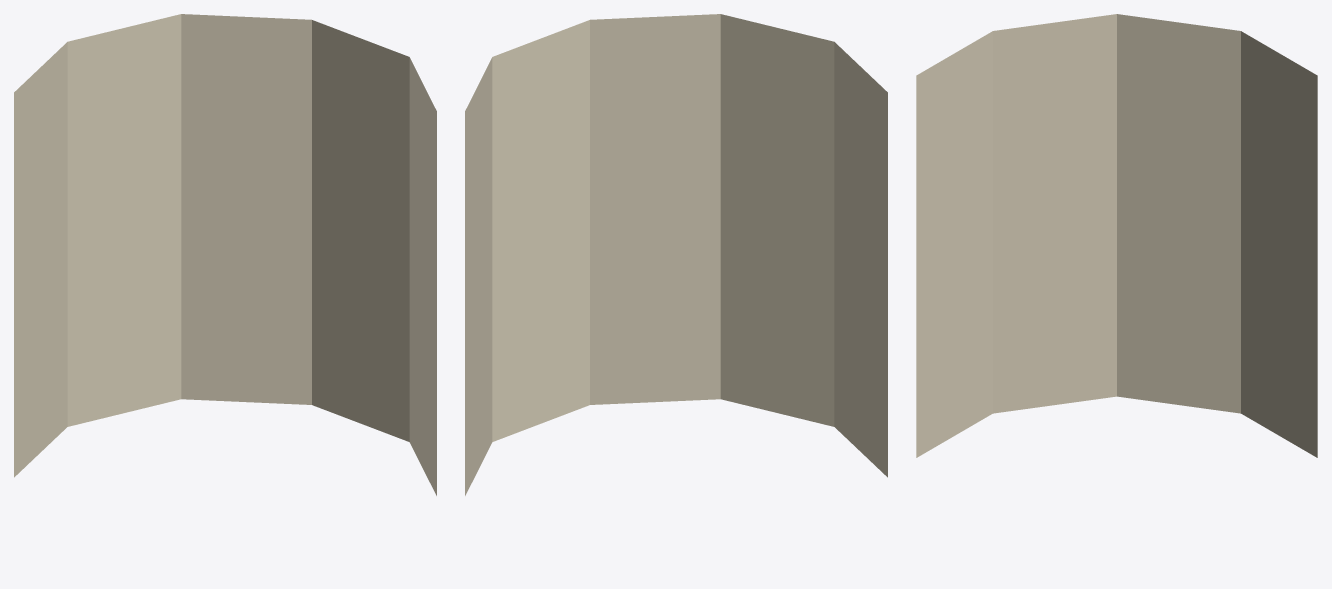
Rendered from soft_glow_01.glb.
The picture shows the model from 3 angles, left to right: view 1: azimuth 30°, elevation 25°; view 2: azimuth 150°, elevation 25°; view 3: azimuth 270°, elevation 25°; orthographic projection.
Visible parts, largest first — view 1: 柔光球; view 2: 柔光球; view 3: 柔光球.
Part boxes in pixels (left/top/right/bottom): 柔光球: left=14, top=14, right=436, bottom=495; 柔光球: left=465, top=14, right=887, bottom=495; 柔光球: left=916, top=14, right=1317, bottom=457.
Bounding box in the file's own units: 1 × 1 × 0.9511.
